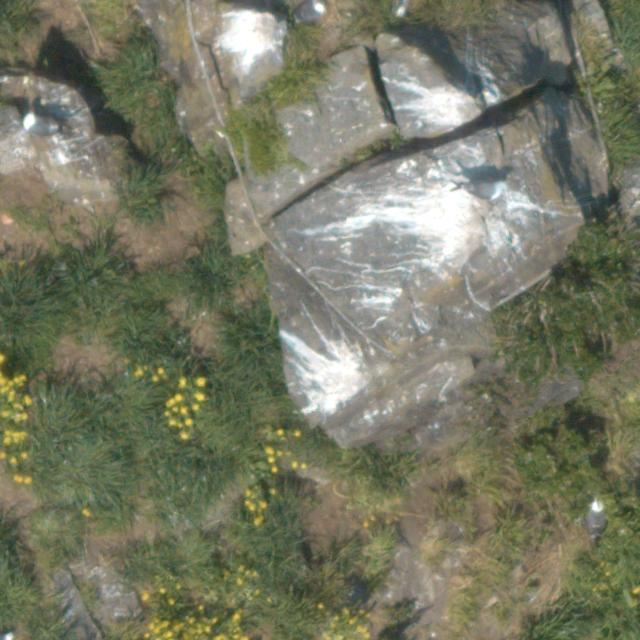umineko: (464, 182, 505, 198), (586, 503, 604, 536), (23, 117, 56, 135), (297, 1, 322, 20), (395, 0, 410, 14), (0, 630, 11, 639)
